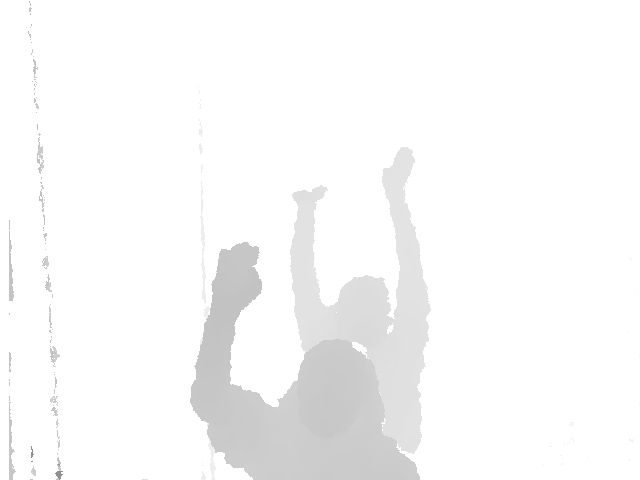hand: (211, 241, 264, 310), (377, 143, 417, 199), (288, 183, 331, 218)
head: (289, 342, 375, 439), (330, 273, 395, 337)
person: (190, 240, 424, 480), (278, 143, 436, 452)
